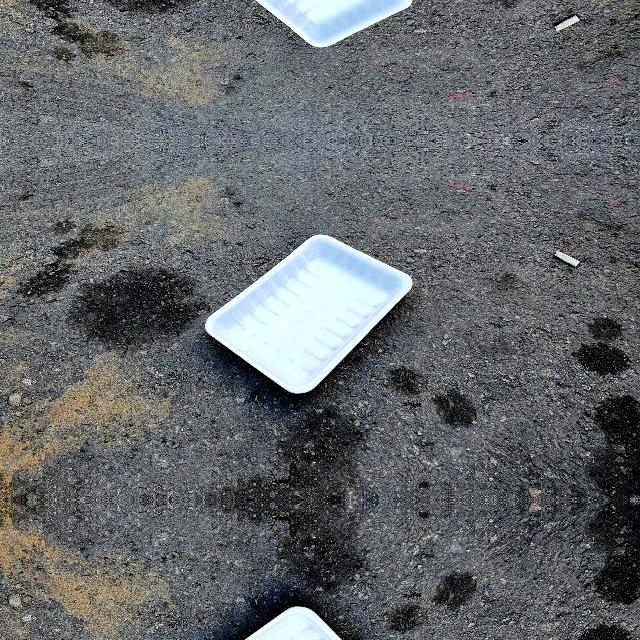Styrofoam: (204, 232, 414, 396), (205, 234, 413, 393), (204, 0, 414, 48), (204, 602, 414, 640), (257, 0, 412, 46)
